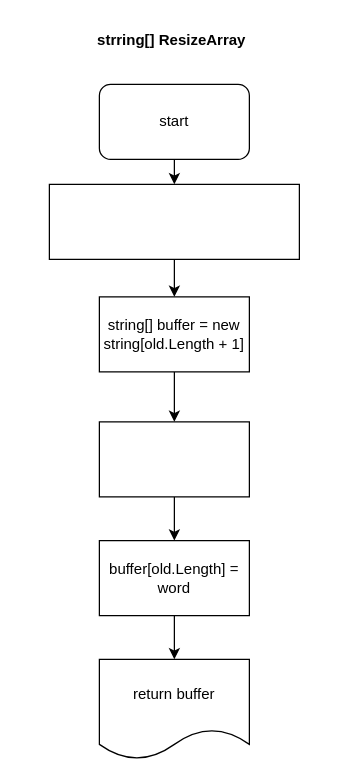
Some shapes in this 343 by 781 pixel diagram are drawn without their labels. The shapes that lost their labels are listed below. From the top down, each one's centre as x and y in pixels, then its label:
At (x=173, y=221): "(string[] old, string word)".
At (x=173, y=459): "old.CopyTo(buffer, 0)".
